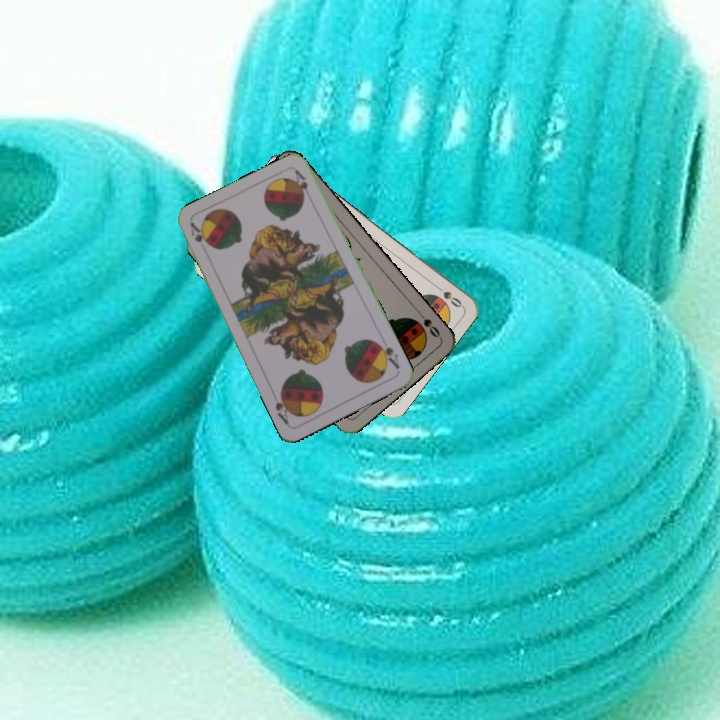SA: (373, 335, 402, 372), (186, 219, 211, 248)
SO: (413, 306, 443, 340), (430, 281, 465, 310)
